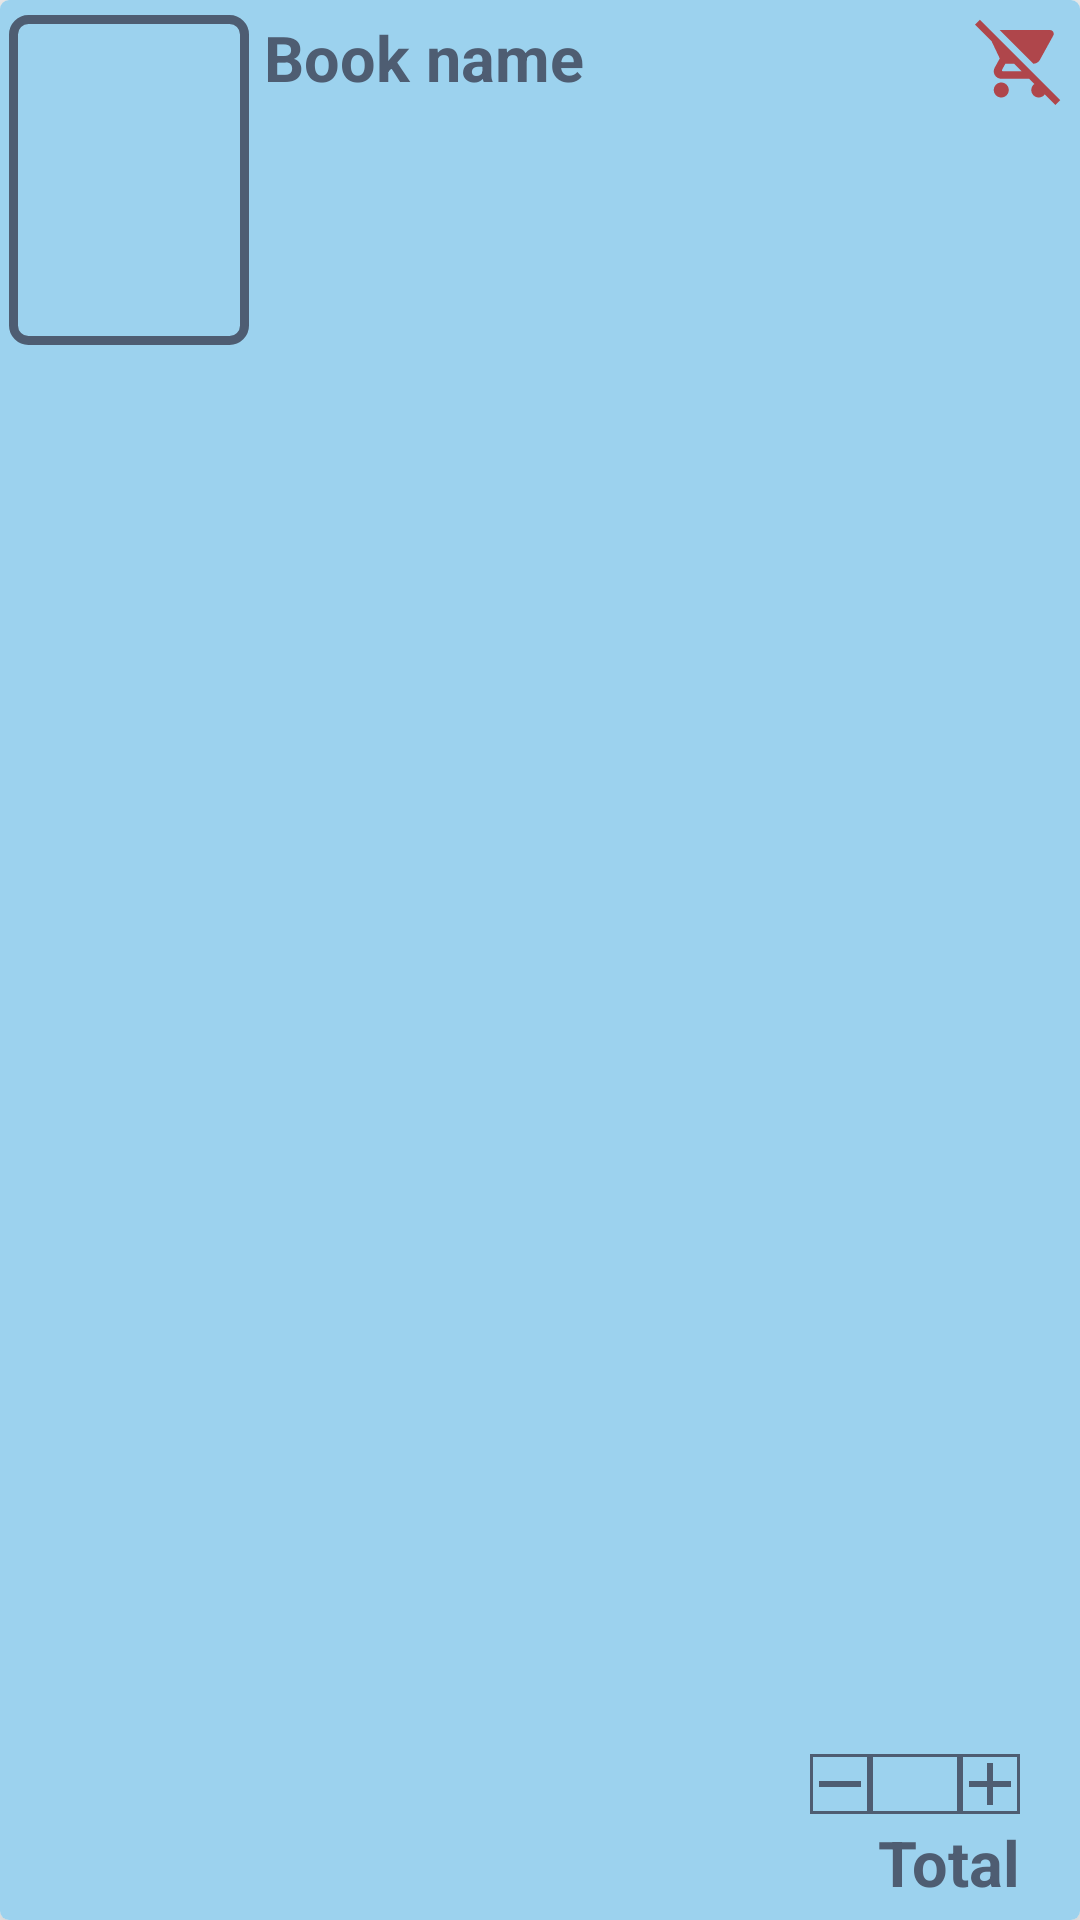

Locate icon controls on the screen. Image size 1080*1920, boxes as (x1, y1, x2, y2).
add: (960, 1754, 1020, 1814)
remove: (810, 1754, 870, 1814)
removefromcart: (975, 20, 1060, 105)
